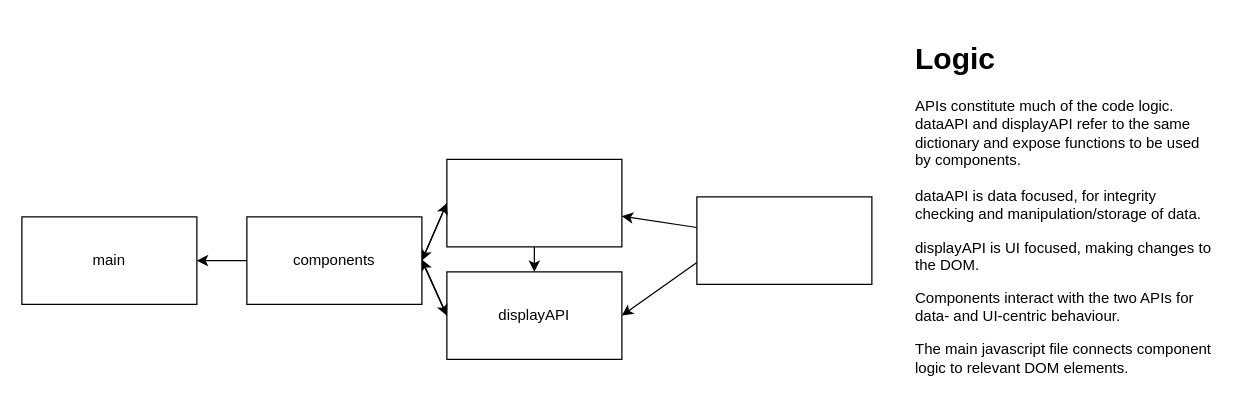
This 1244x418 diagram has some shape labels left out. Here are the shapes that lost their labels. From the top down, the centre of each, then its label:
(534,202): dataAPI
(784,240): dictionary
